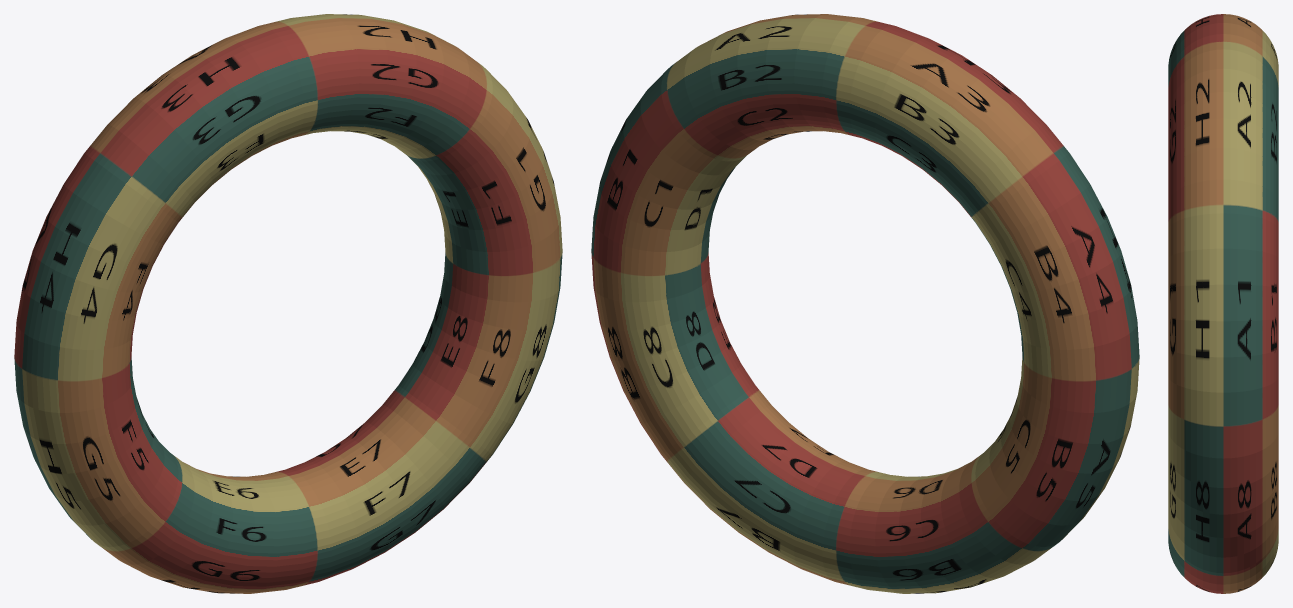
The model's file is texture_torus_R30_r19.glb.
3 renders of one model, left to right at view 1: azimuth 30°, elevation 25°; view 2: azimuth 150°, elevation 25°; view 3: azimuth 270°, elevation 25°, orthographic. The views are drawn at different scales.
Visible parts, largest first — view 1: world; view 2: world; view 3: world.
Part boxes in pixels (box(x1,y1,x2,y2)): world: box(14, 14, 562, 593); world: box(591, 14, 1139, 593); world: box(1168, 14, 1278, 593).
Bounding box in the file's own units: 37.07 × 36.99 × 7.05.
Materials: 1 (1 with a texture image).
